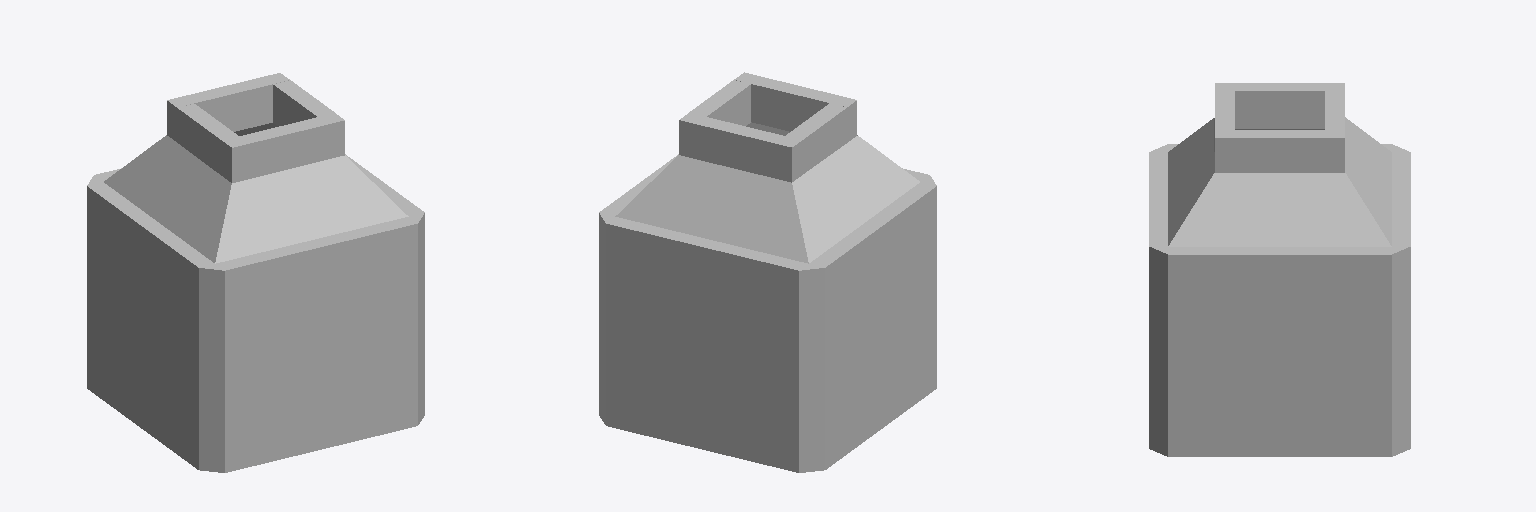
The model's file is inkwell.obj.
3 views of the same model, side by side, from view 1: azimuth 30°, elevation 25°; view 2: azimuth 150°, elevation 25°; view 3: azimuth 270°, elevation 25° (orthographic).
Visible parts, largest first — view 1: Plane; view 2: Plane; view 3: Plane.
Boxes of the visible parts, x1=… form: Plane: x1=87, y1=73, x2=424, y2=472; Plane: x1=599, y1=72, x2=936, y2=472; Plane: x1=1149, y1=83, x2=1410, y2=456.
Bounding box in the file's own units: 0.7648 × 0.9416 × 0.7648.